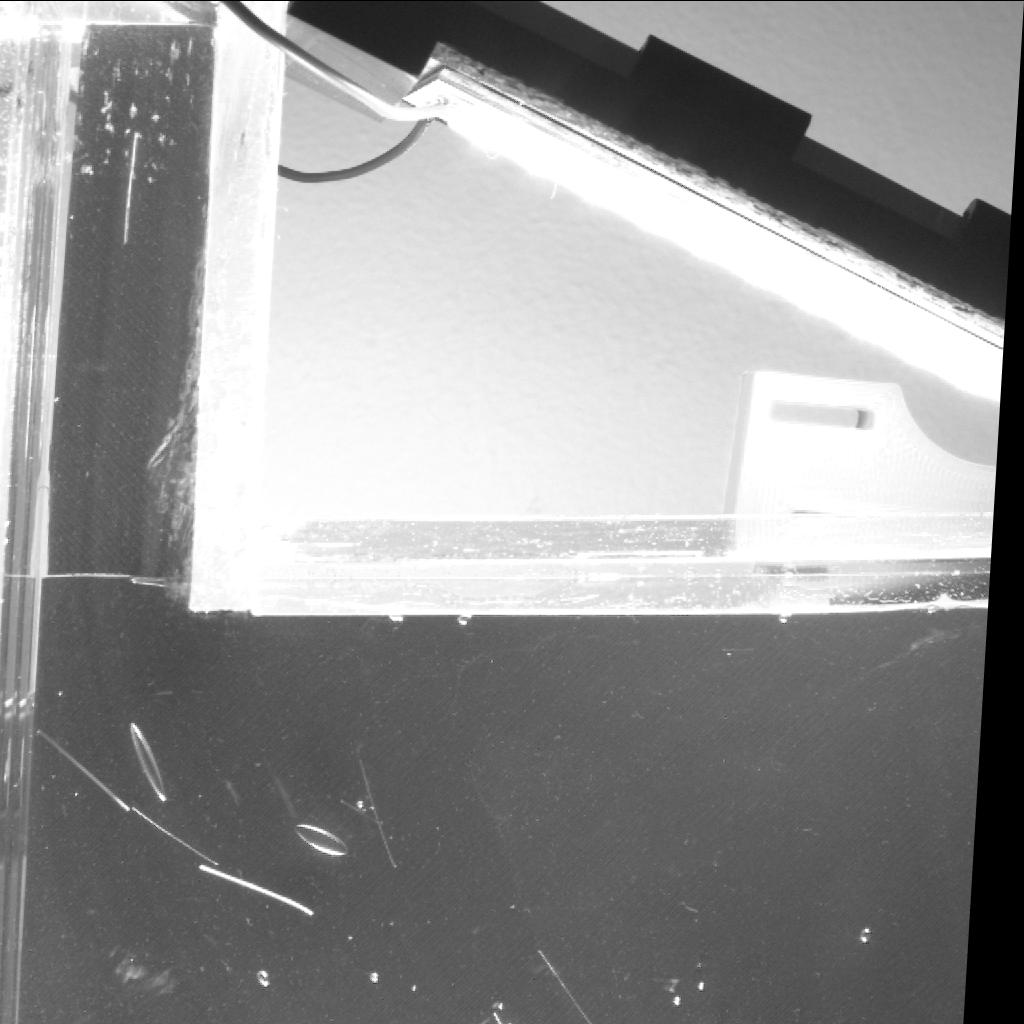Fiber: (38, 723, 143, 820), (205, 857, 331, 920), (137, 800, 236, 872), (362, 750, 412, 868), (544, 943, 612, 1024), (122, 126, 144, 245), (502, 1009, 520, 1022)
